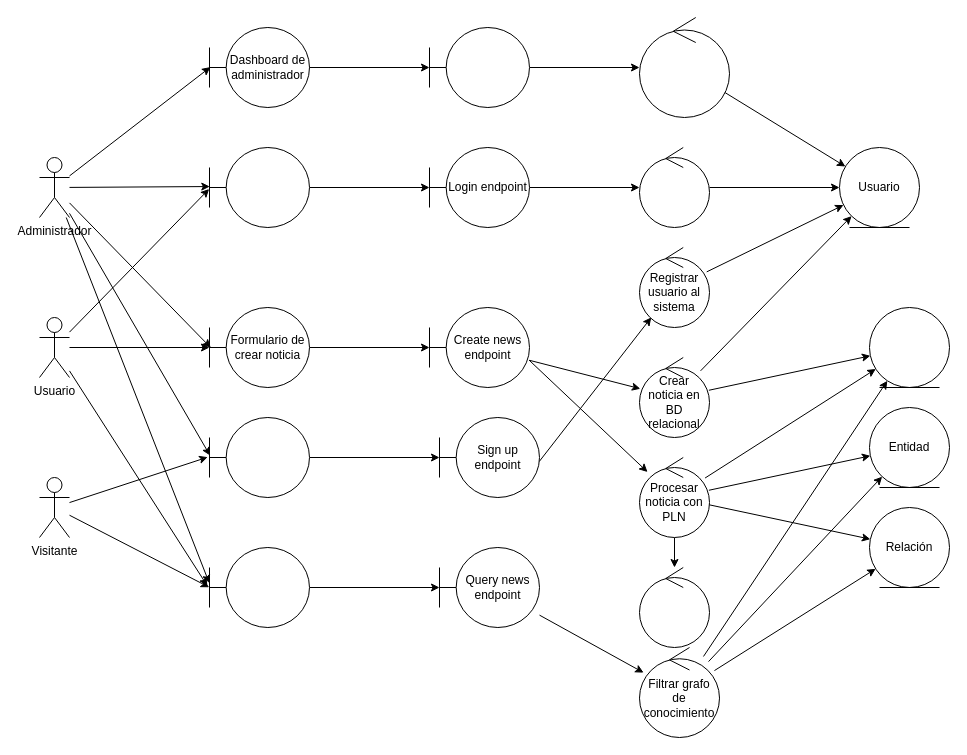
This 967x755 diagram has some shape labels left out. Here are the shapes that lost their labels. From the top down, the centre of each, then its label:
At (x=479, y=67): "Admin endpoints".
At (x=684, y=67): "Operaciones de administrar usuarios".
At (x=259, y=187): "Página de inicio de sesión".
At (x=674, y=187): "Login".
At (x=909, y=347): "Noticia".
At (x=259, y=457): "Registrar usuario nuevo".
At (x=259, y=587): "Visualizar noticia".
At (x=674, y=607): "Almacenar relaciones en Neo4J".
